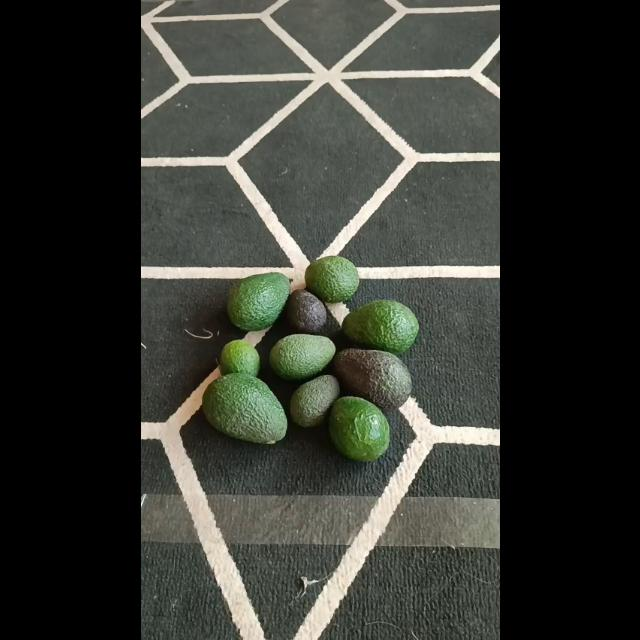Primera: (200, 372, 286, 444), (333, 348, 411, 408), (342, 300, 418, 354), (226, 272, 288, 330)
Segunda: (327, 395, 389, 459), (269, 334, 335, 381), (304, 255, 358, 302)
Tercera: (288, 374, 339, 428), (284, 290, 328, 334), (218, 339, 258, 377)
